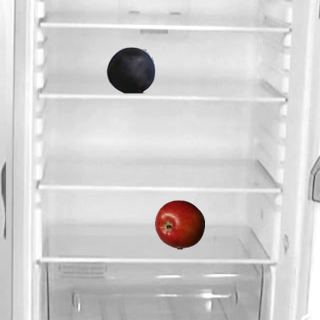Apple Braeburn: (154, 199, 204, 249)
Grape Blue: (105, 44, 155, 94)
